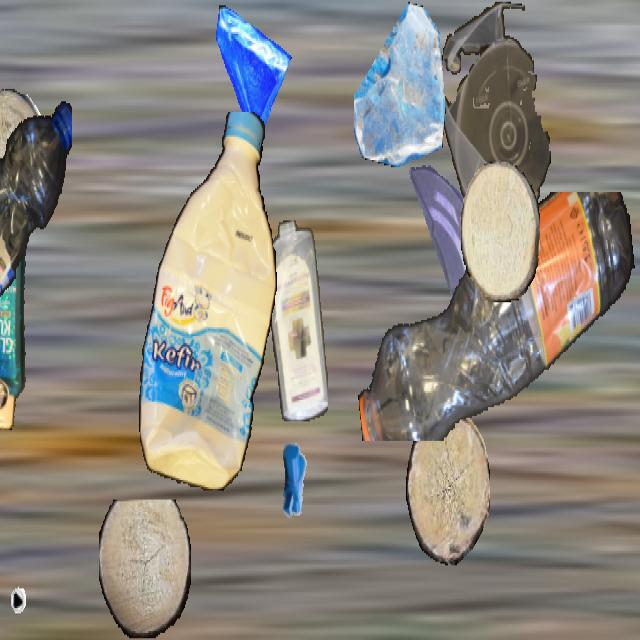glass: (354, 2, 446, 165), (405, 158, 489, 308), (210, 2, 292, 148)
metal: (264, 428, 326, 538), (0, 516, 33, 622)
plastic: (353, 192, 637, 441), (135, 112, 277, 489), (440, 2, 552, 236), (0, 89, 71, 338), (267, 220, 327, 420), (0, 176, 36, 428)
wood: (406, 412, 490, 566), (99, 500, 191, 638), (461, 162, 539, 300), (0, 89, 46, 156)
